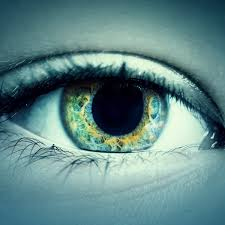pupil: (61, 78, 167, 150)
